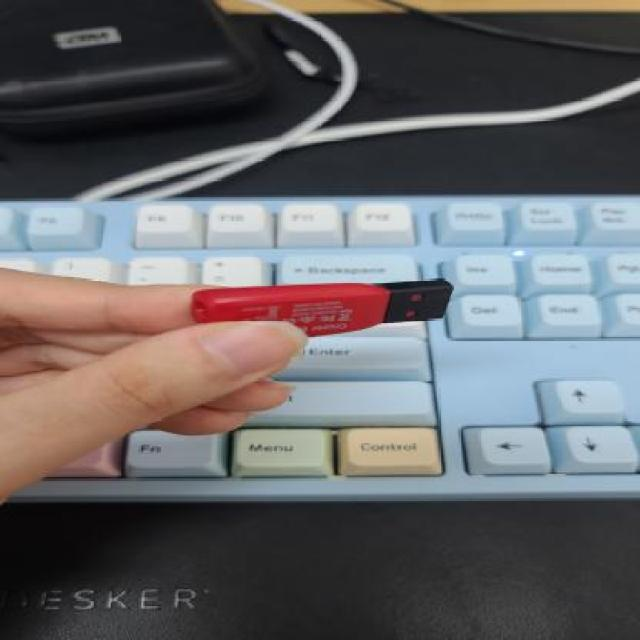Flashdisk: (193, 278, 452, 338)
